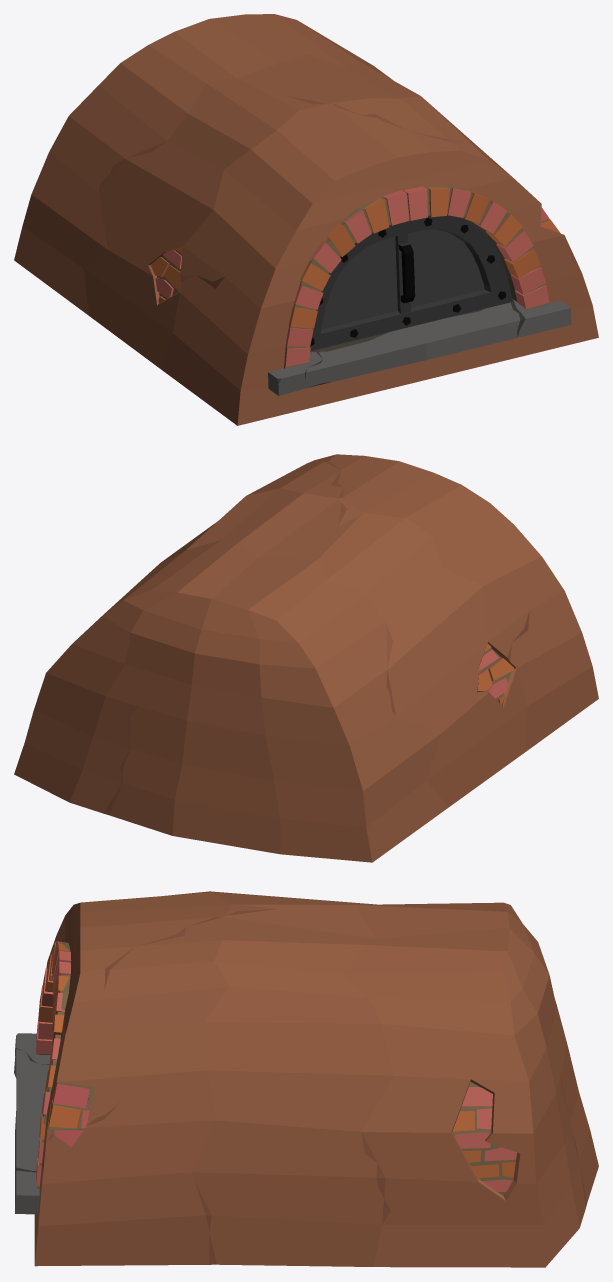
File: coalmaker_2.fbx
The picture shows the model from 3 angles, top to bottom: view 1: azimuth 30°, elevation 25°; view 2: azimuth 150°, elevation 25°; view 3: azimuth 270°, elevation 25°; orthographic projection. The views are drawn at different scales.
Parts seen in each view (by area): view 1: stove, damper; view 2: stove; view 3: stove.
Boxes of the visible parts, left/top/right/bottom form: stove: left=14, top=14, right=598, bottom=425; damper: left=309, top=215, right=512, bottom=351; stove: left=14, top=454, right=598, bottom=862; stove: left=14, top=891, right=598, bottom=1267.
Size of the model in its own units: 1.23 by 0.7071 by 1.51.
